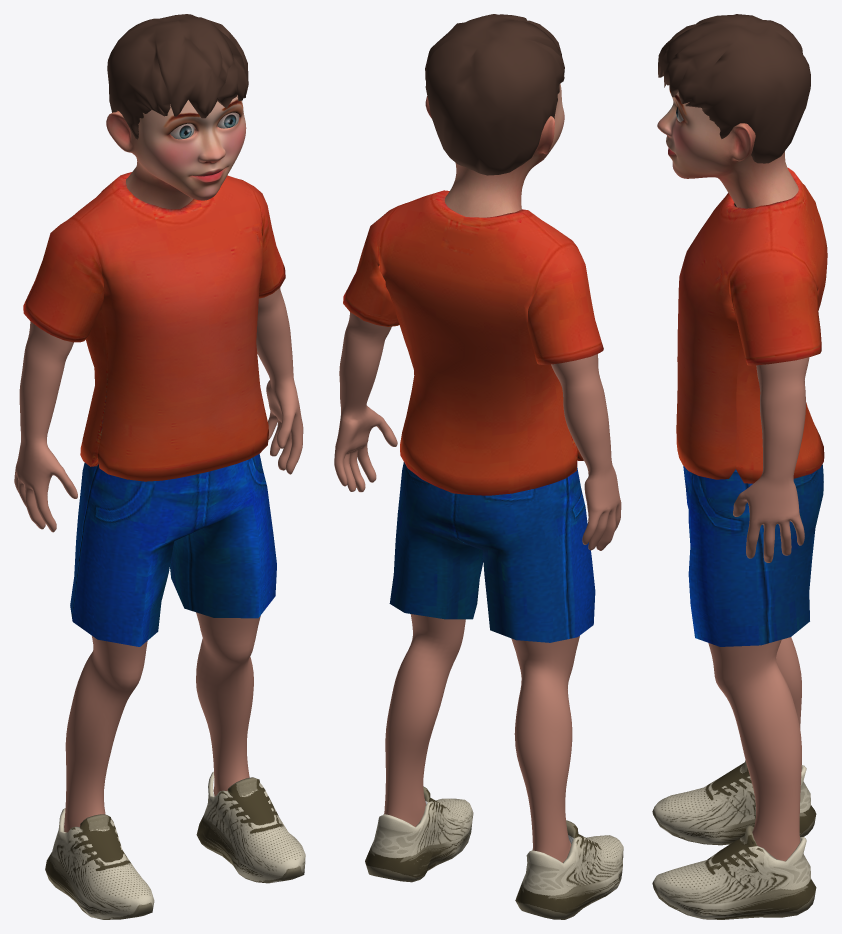
File: boy3.glb
3 views of the same model, side by side, from view 1: azimuth 30°, elevation 25°; view 2: azimuth 150°, elevation 25°; view 3: azimuth 270°, elevation 25° (orthographic).
Parts seen in each view (by area): view 1: body; view 2: body; view 3: body.
Boxes of the visible parts, <box> form: body: <box>14,14,305,919</box>; body: <box>334,14,623,919</box>; body: <box>652,14,827,919</box>.
Size of the model in its own units: 0.3252 by 0.9787 by 0.1826.
Materials: 7 (7 with a texture image).
